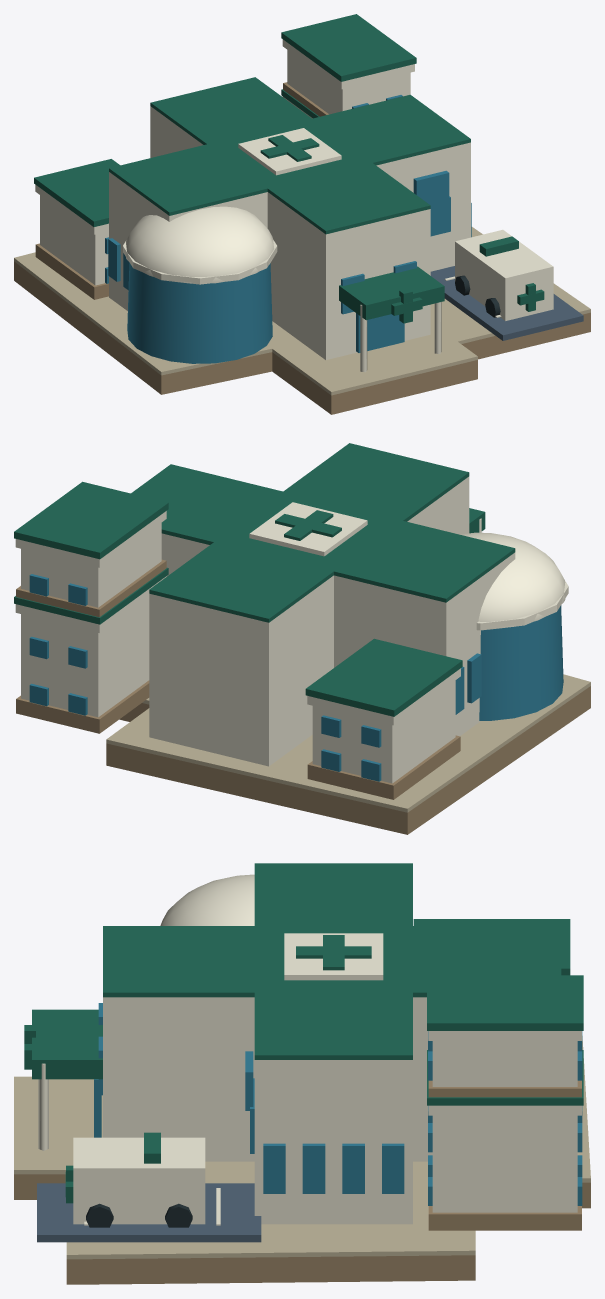
Rendered from medical-center-lv4.glb.
The picture shows the model from 3 angles, top to bottom: view 1: azimuth 30°, elevation 25°; view 2: azimuth 150°, elevation 25°; view 3: azimuth 270°, elevation 25°; orthographic projection. The views are drawn at different scales.
Parts seen in each view (by area): view 1: cross_clinic_jade, cross_clinic_white, foundation_paving, diagnostics_rotunda_glass, foundation_stoneDark, diagnostics_dome_white, ambulance_white, inpatient_upper_floor_roof_jade, inpatient_upper_floor_white, inpatient_wing_white, entry_canopy_jade, inpatient_wing_roof_jade (+11 smaller); view 2: cross_clinic_white, cross_clinic_jade, foundation_stoneDark, diagnostics_wing_white, foundation_paving, inpatient_wing_white, diagnostics_rotunda_glass, inpatient_wing_roof_jade, inpatient_upper_floor_roof_jade, inpatient_upper_floor_white, diagnostics_dome_white, roof_mark_white (+9 smaller); view 3: cross_clinic_white, cross_clinic_jade, foundation_paving, diagnostics_wing_white, foundation_stoneDark, ambulance_white, inpatient_upper_floor_roof_jade, inpatient_upper_floor_white, ambulance_lane_slate, entry_canopy_jade, side_clinic_windows_glass, diagnostics_dome_white (+10 smaller).
Part boxes in pixels (x1=…): cross_clinic_jade: x1=109, y1=77, x2=470, y2=234; cross_clinic_white: x1=109, y1=106, x2=470, y2=359; foundation_paving: x1=14, y1=227, x2=590, y2=395; diagnostics_rotunda_glass: x1=127, y1=262, x2=272, y2=363; foundation_stoneDark: x1=14, y1=261, x2=590, y2=414; diagnostics_dome_white: x1=123, y1=206, x2=277, y2=284; ambulance_white: x1=455, y1=229, x2=553, y2=320; inpatient_upper_floor_roof_jade: x1=281, y1=14, x2=416, y2=81; inpatient_upper_floor_white: x1=282, y1=39, x2=414, y2=114; inpatient_wing_white: x1=35, y1=184, x2=108, y2=285; entry_canopy_jade: x1=339, y1=266, x2=444, y2=320; inpatient_wing_roof_jade: x1=34, y1=159, x2=120, y2=226; cross_clinic_white: x1=149, y1=476, x2=515, y2=766; cross_clinic_jade: x1=131, y1=443, x2=515, y2=622; foundation_stoneDark: x1=106, y1=686, x2=590, y2=834; diagnostics_wing_white: x1=15, y1=576, x2=166, y2=717; foundation_paving: x1=106, y1=674, x2=590, y2=812; inpatient_wing_white: x1=307, y1=668, x2=460, y2=783; diagnostics_rotunda_glass: x1=479, y1=605, x2=563, y2=720; inpatient_wing_roof_jade: x1=305, y1=638, x2=462, y2=716; inpatient_upper_floor_roof_jade: x1=14, y1=481, x2=168, y2=559; inpatient_upper_floor_white: x1=15, y1=511, x2=166, y2=607; diagnostics_dome_white: x1=460, y1=532, x2=568, y2=630; roof_mark_white: x1=249, y1=502, x2=367, y2=556; cross_clinic_white: x1=103, y1=997, x2=432, y2=1224; cross_clinic_jade: x1=103, y1=863, x2=561, y2=1059; foundation_paving: x1=14, y1=1036, x2=590, y2=1259; diagnostics_wing_white: x1=428, y1=1105, x2=581, y2=1212; foundation_stoneDark: x1=14, y1=1174, x2=590, y2=1284; ambulance_white: x1=73, y1=1137, x2=205, y2=1224; inpatient_upper_floor_roof_jade: x1=427, y1=975, x2=583, y2=1030; inpatient_upper_floor_white: x1=428, y1=1031, x2=581, y2=1086; ambulance_lane_slate: x1=37, y1=1183, x2=261, y2=1242; entry_canopy_jade: x1=32, y1=1009, x2=102, y2=1079; side_clinic_windows_glass: x1=263, y1=1143, x2=404, y2=1193; diagnostics_dome_white: x1=160, y1=874, x2=254, y2=925.
Bounding box in the file's own units: 1 × 0.45 × 0.9887.
